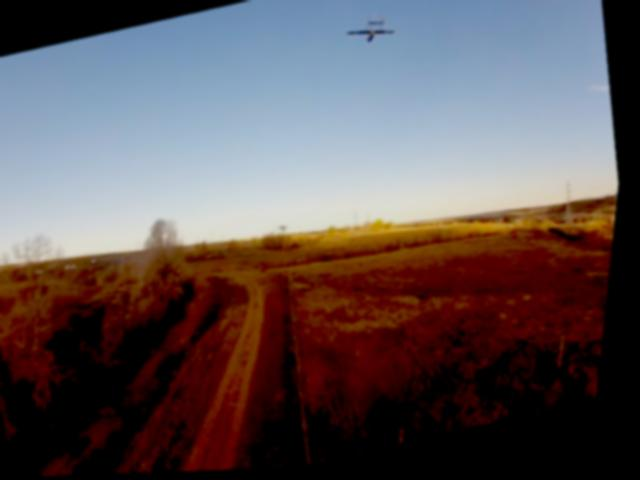uav: (343, 12, 398, 49)
